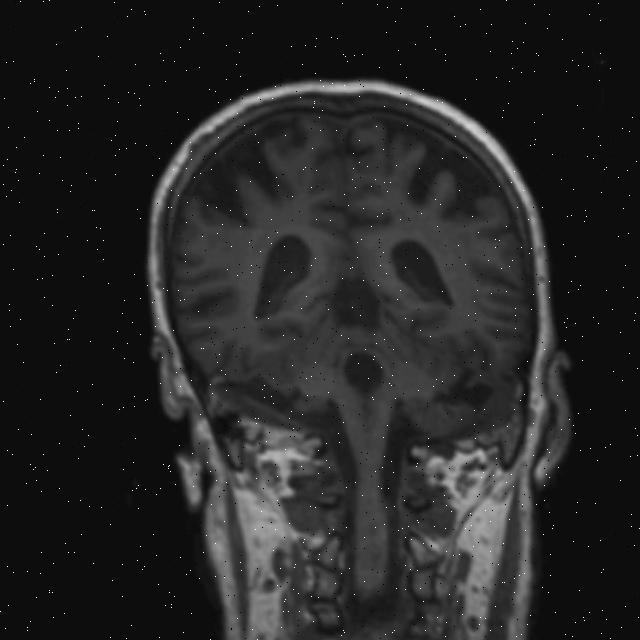NoTumor: (132, 61, 562, 440)
